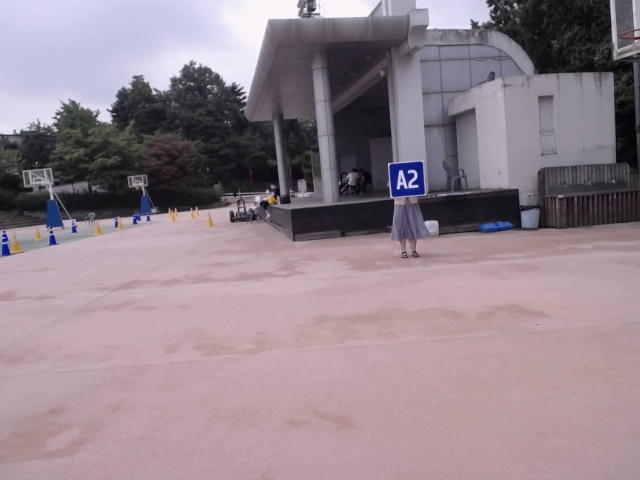delivery_a2: (389, 160, 426, 198)
